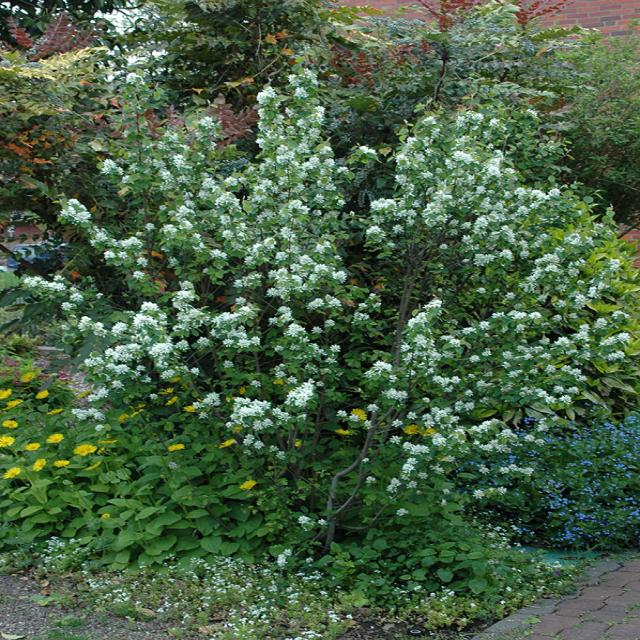Amelanchier alnifolia: (34, 71, 633, 545)
